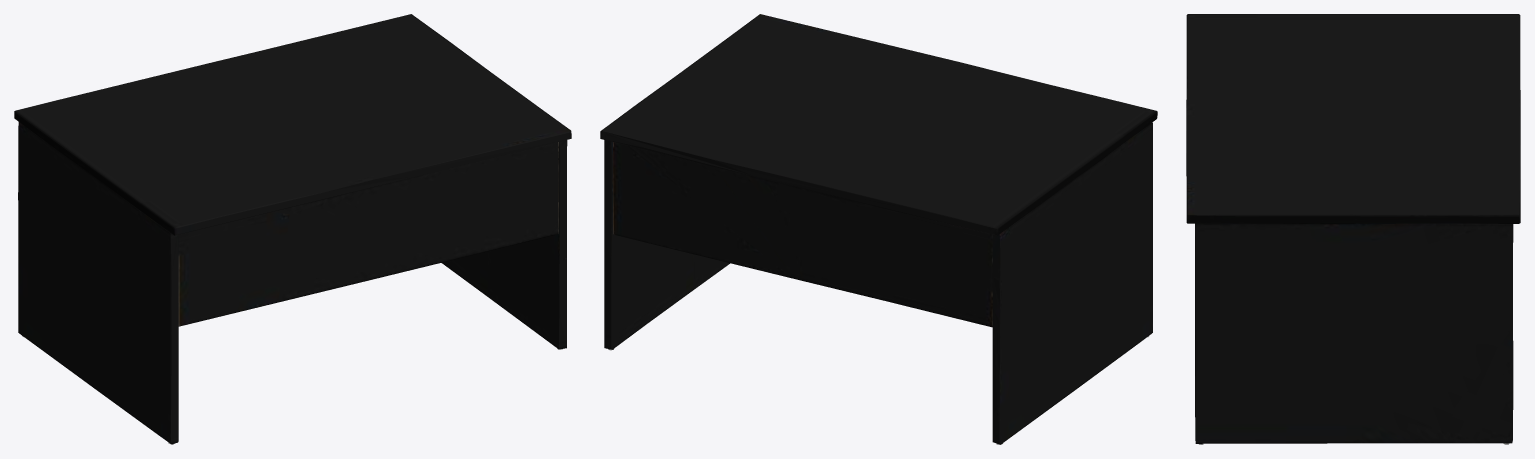
The picture shows the model from 3 angles, left to right: view 1: azimuth 30°, elevation 25°; view 2: azimuth 150°, elevation 25°; view 3: azimuth 270°, elevation 25°; orthographic projection. The views are drawn at different scales.
Parts seen in each view (by area): view 1: 107a8c3e-add5-43ad-89b9-ebab7ab0637a; view 2: 107a8c3e-add5-43ad-89b9-ebab7ab0637a; view 3: 107a8c3e-add5-43ad-89b9-ebab7ab0637a.
Part boxes in pixels (x1,y1,x2,y2): 107a8c3e-add5-43ad-89b9-ebab7ab0637a: [14, 14, 571, 444]; 107a8c3e-add5-43ad-89b9-ebab7ab0637a: [600, 14, 1157, 444]; 107a8c3e-add5-43ad-89b9-ebab7ab0637a: [1186, 14, 1520, 444].
Size of the model in its own units: 0.9 by 0.48 by 0.63.
Materials: 1 (1 with a texture image).
